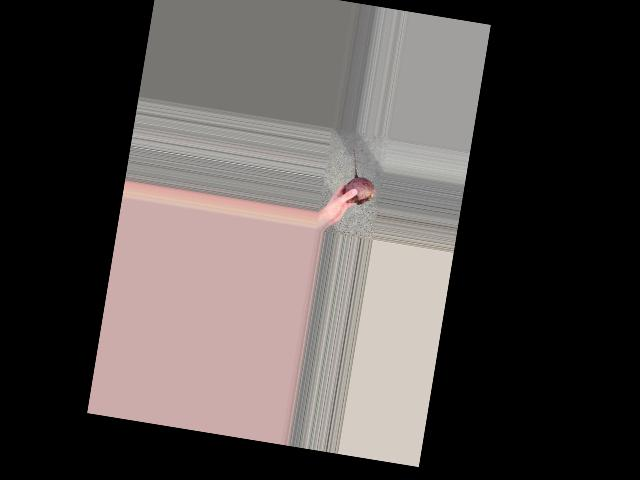beet: (343, 148, 381, 206)
